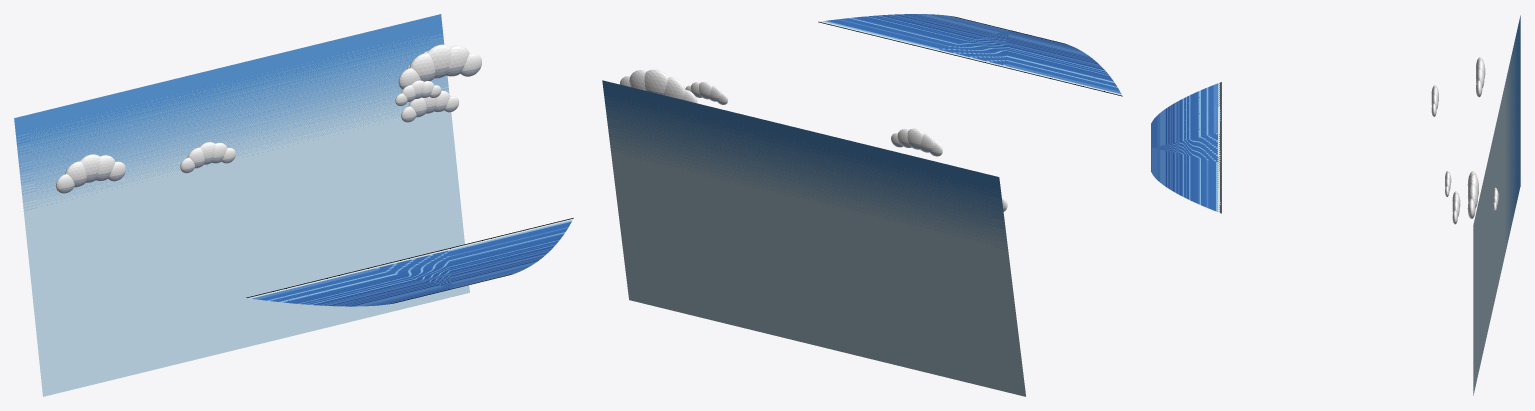
File: bg_water.glb
The picture shows the model from 3 angles, left to right: view 1: azimuth 30°, elevation 25°; view 2: azimuth 150°, elevation 25°; view 3: azimuth 270°, elevation 25°; orthographic projection. The views are drawn at different scales.
Visible parts, largest first — view 1: sky, sea, clouds; view 2: sky, sea, clouds; view 3: sky, sea, clouds.
Boxes of the visible parts, left/top/right/bottom form: sky: left=14, top=14, right=469, bottom=396; sea: left=246, top=218, right=573, bottom=306; clouds: left=56, top=44, right=481, bottom=193; sky: left=602, top=80, right=1025, bottom=396; sea: left=818, top=14, right=1122, bottom=96; clouds: left=619, top=69, right=1007, bottom=211; sky: left=1473, top=15, right=1520, bottom=395; sea: left=1151, top=82, right=1221, bottom=213; clouds: left=1431, top=57, right=1498, bottom=224.
Bounding box in the file's own units: 107 × 59.92 × 94.79.
4 materials, 2 textured.
